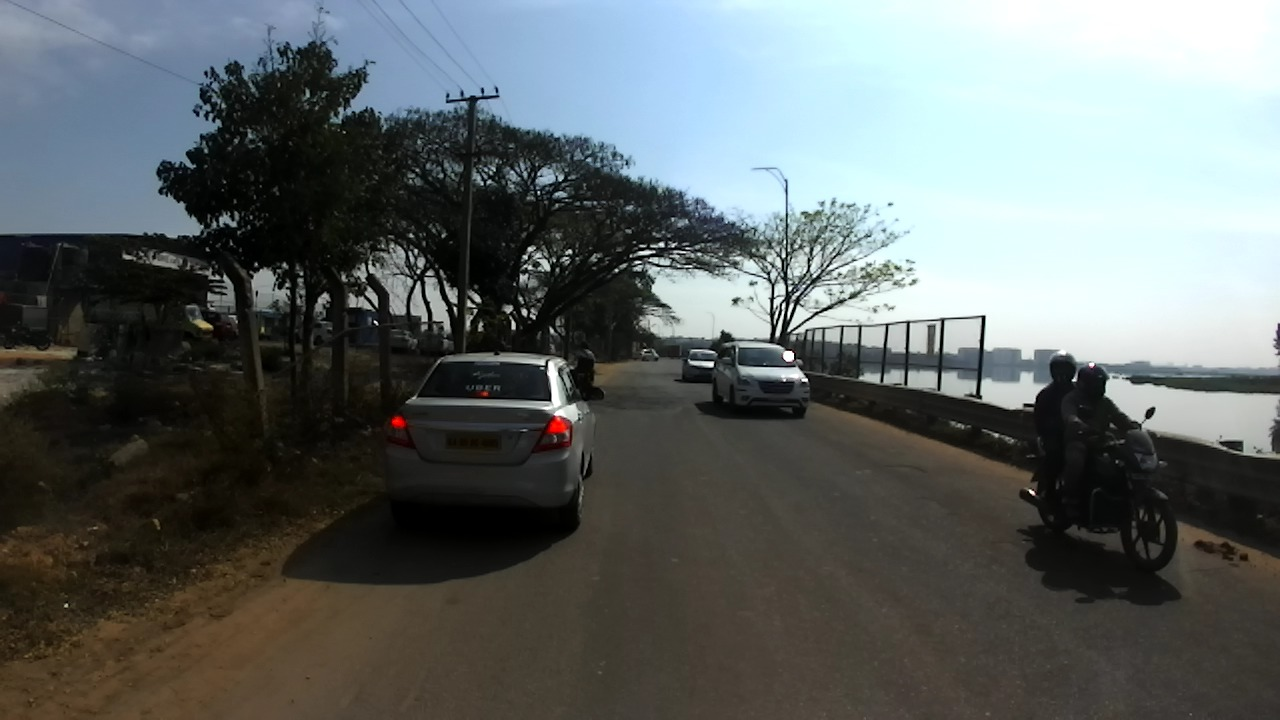car: (383, 348, 606, 531), (706, 340, 810, 419), (681, 349, 721, 384), (415, 328, 452, 356), (297, 321, 334, 345), (381, 329, 417, 351), (633, 347, 660, 361)
motorcycle: (1018, 406, 1179, 570), (2, 320, 54, 351), (564, 358, 595, 396)
person: (435, 325, 448, 355)
rider: (1059, 364, 1137, 507), (1033, 351, 1087, 513), (573, 343, 597, 384)
truck: (89, 295, 214, 353), (196, 306, 238, 342)
vehicle fallback: (221, 314, 242, 338), (668, 344, 681, 360)
